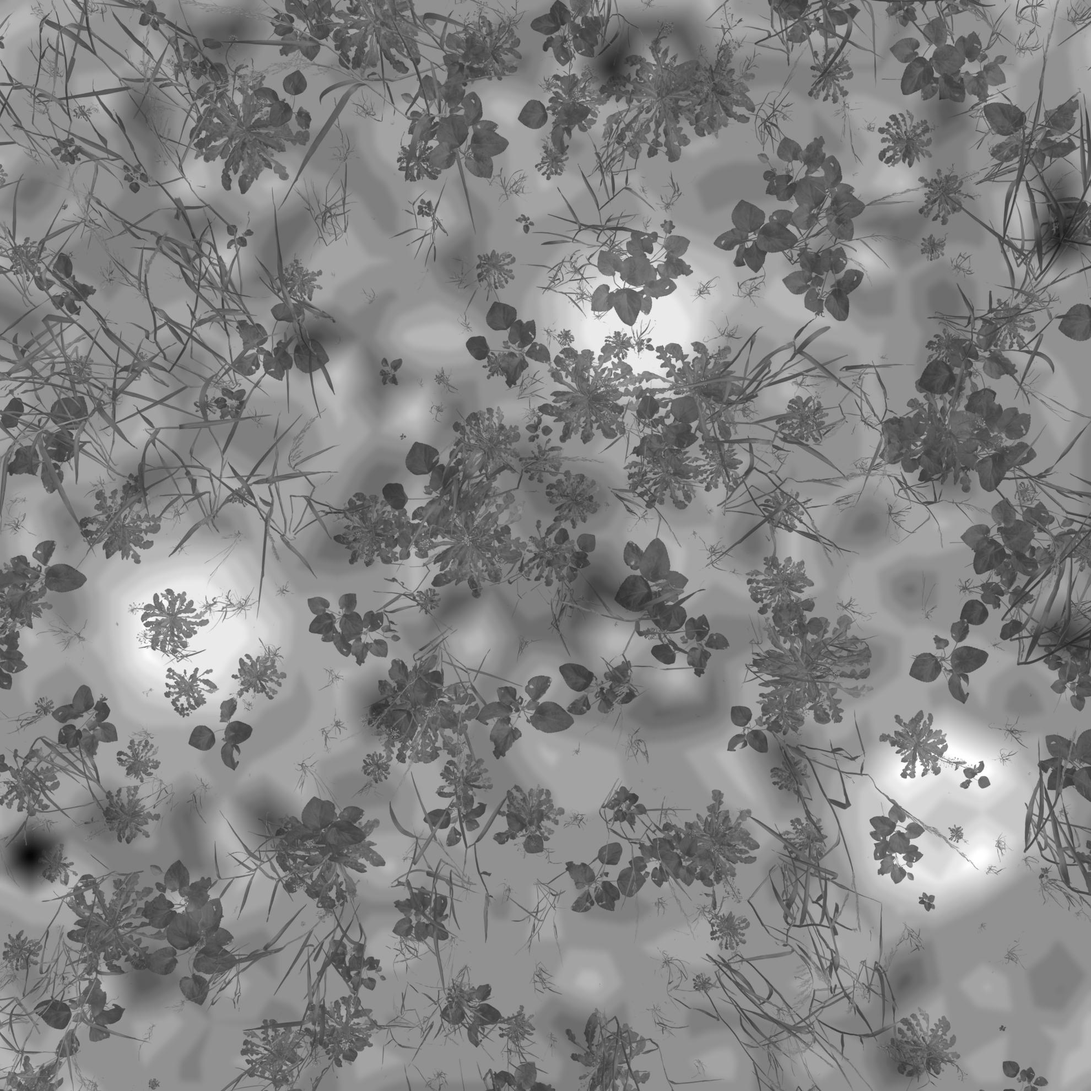landmine: (103, 535, 268, 710), (868, 729, 1031, 885)
